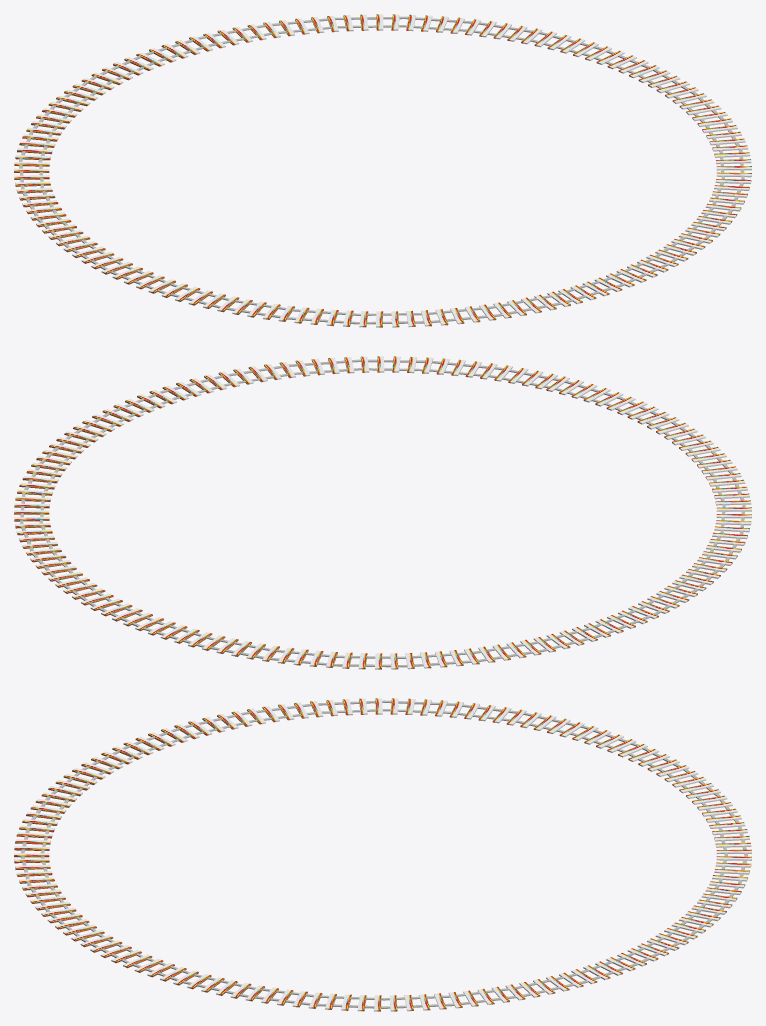
The model's file is vies_tren.fbx.
The picture shows the model from 3 angles, top to bottom: view 1: azimuth 30°, elevation 25°; view 2: azimuth 150°, elevation 25°; view 3: azimuth 270°, elevation 25°; orthographic projection.
Visible parts, largest first — view 1: Cube, Cylinder; view 2: Cube, Cylinder; view 3: Cube, Cylinder.
Boxes of the visible parts, box(x1,y1,x2,y2) form: Cube: box(14, 14, 751, 327); Cylinder: box(19, 16, 744, 324); Cube: box(14, 356, 751, 669); Cylinder: box(20, 359, 745, 667); Cube: box(14, 698, 751, 1011); Cylinder: box(21, 700, 747, 1008).
Size of the model in its own units: 4183 by 8.19 by 4182.
